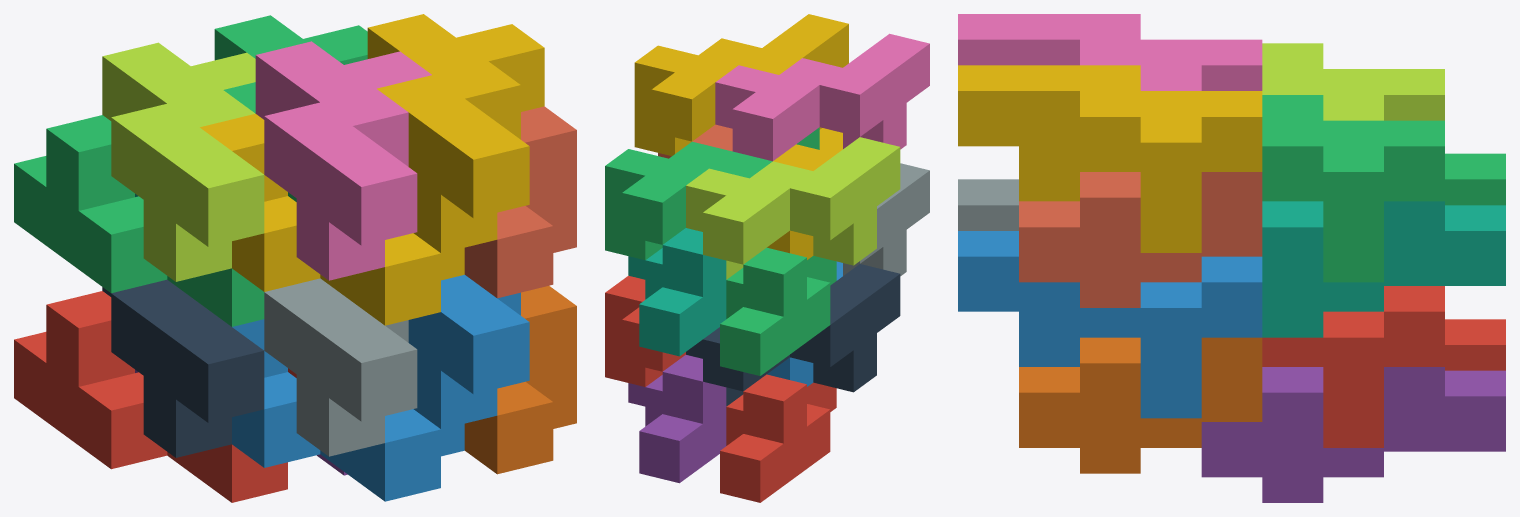
File: tiling.obj
The picture shows the model from 3 angles, left to right: view 1: azimuth 30°, elevation 25°; view 2: azimuth 150°, elevation 25°; view 3: azimuth 270°, elevation 25°; orthographic projection. The views are drawn at different scales.
Parts seen in each view (by area): view 1: copy_2_domain_4, copy_2_domain_3, copy_2_domain_8, copy_1_domain_1, copy_1_domain_3, copy_2_domain_2, copy_2_domain_1, copy_1_domain_4, copy_2_domain_6, copy_1_domain_2, copy_1_domain_8, copy_1_domain_6 (+1 smaller); view 2: copy_2_domain_3, copy_2_domain_4, copy_2_domain_8, copy_1_domain_1, copy_1_domain_3, copy_2_domain_7, copy_2_domain_1, copy_1_domain_5, copy_1_domain_7, copy_2_domain_5, copy_2_domain_2, copy_1_domain_4 (+2 smaller); view 3: copy_2_domain_8, copy_2_domain_6, copy_1_domain_5, copy_2_domain_7, copy_1_domain_7, copy_1_domain_8, copy_1_domain_6, copy_2_domain_4, copy_2_domain_5, copy_2_domain_3, copy_1_domain_3, copy_1_domain_1 (+1 smaller).
Part boxes in pixels (box(x1,y1,x2,y2)): copy_2_domain_4: box(255, 41, 431, 280); copy_2_domain_3: box(102, 42, 264, 281); copy_2_domain_8: box(367, 14, 544, 253); copy_1_domain_1: box(14, 291, 287, 502); copy_1_domain_3: box(14, 115, 264, 326); copy_2_domain_2: box(264, 278, 417, 456); copy_2_domain_1: box(102, 279, 264, 457); copy_1_domain_4: box(200, 113, 464, 325); copy_2_domain_6: box(408, 274, 529, 429); copy_1_domain_2: box(232, 319, 464, 501); copy_1_domain_8: box(464, 106, 576, 298); copy_1_domain_6: box(464, 286, 576, 474); copy_2_domain_3: box(686, 137, 900, 279); copy_2_domain_4: box(715, 33, 929, 161); copy_2_domain_8: box(634, 14, 848, 155); copy_1_domain_1: box(720, 374, 836, 502); copy_1_domain_3: box(720, 247, 836, 375); copy_2_domain_7: box(605, 127, 819, 260); copy_2_domain_1: box(686, 264, 900, 406); copy_1_domain_5: box(628, 355, 726, 483); copy_1_domain_7: box(628, 228, 726, 356); copy_2_domain_5: box(605, 275, 685, 386); copy_2_domain_2: box(843, 163, 929, 276); copy_1_domain_4: box(767, 128, 842, 259); copy_2_domain_8: box(958, 65, 1262, 252); copy_2_domain_6: box(958, 231, 1262, 418); copy_1_domain_5: box(1201, 367, 1505, 502); copy_2_domain_7: box(1262, 95, 1444, 282); copy_1_domain_7: box(1262, 201, 1505, 337); copy_1_domain_8: box(1019, 172, 1262, 307); copy_1_domain_6: box(1019, 337, 1262, 473); copy_2_domain_4: box(958, 14, 1262, 90); copy_2_domain_5: box(1262, 286, 1444, 447); copy_2_domain_3: box(1262, 43, 1444, 120); copy_1_domain_3: box(1445, 153, 1505, 205); copy_1_domain_1: box(1445, 319, 1505, 370).
Bounding box in the file's own units: 6 × 7 × 9.
